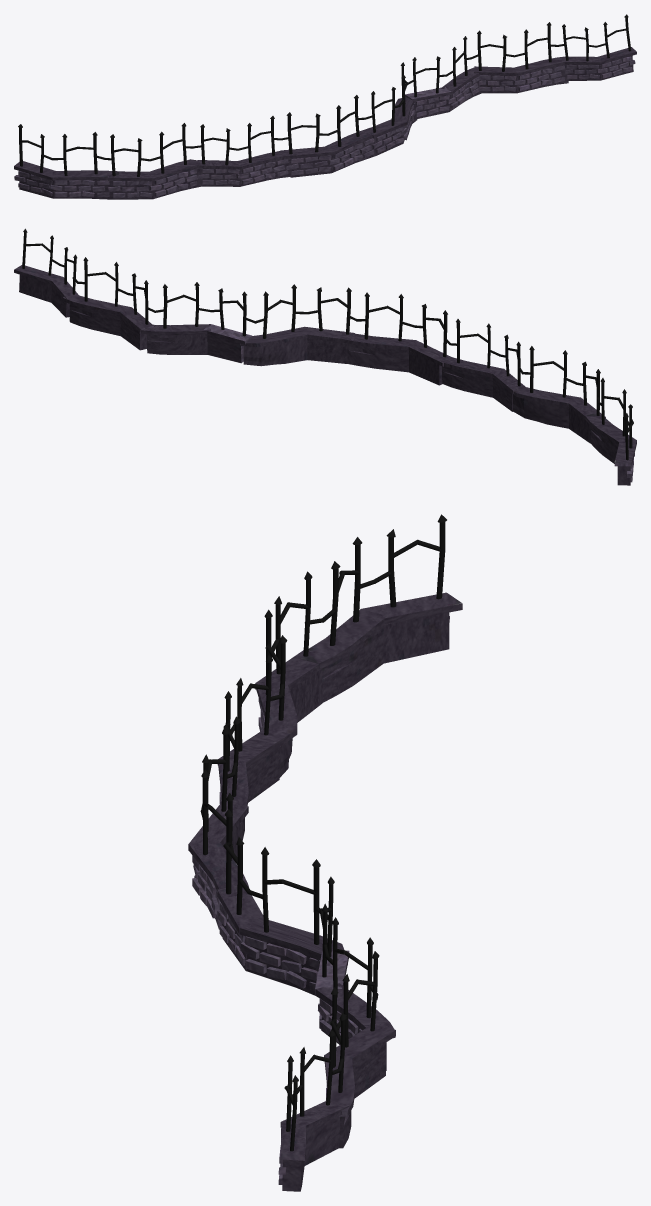
The model's file is myfence_copy.obj.
3 views of the same model, one above another, from view 1: azimuth 30°, elevation 25°; view 2: azimuth 150°, elevation 25°; view 3: azimuth 270°, elevation 25° (orthographic). The views are drawn at different scales.
Visible parts, largest first — view 1: final_fence1:fence1:fences_start2:polySurface71; view 2: final_fence1:fence1:fences_start2:polySurface71; view 3: final_fence1:fence1:fences_start2:polySurface71.
Boxes of the visible parts, x1,y1,x2,y2 form: final_fence1:fence1:fences_start2:polySurface71: (14, 14, 636, 199); final_fence1:fence1:fences_start2:polySurface71: (14, 228, 636, 485); final_fence1:fence1:fences_start2:polySurface71: (188, 514, 462, 1191).
Size of the model in its own units: 8.03 by 0.8659 by 1.64.
Materials: 2 (2 with a texture image).
